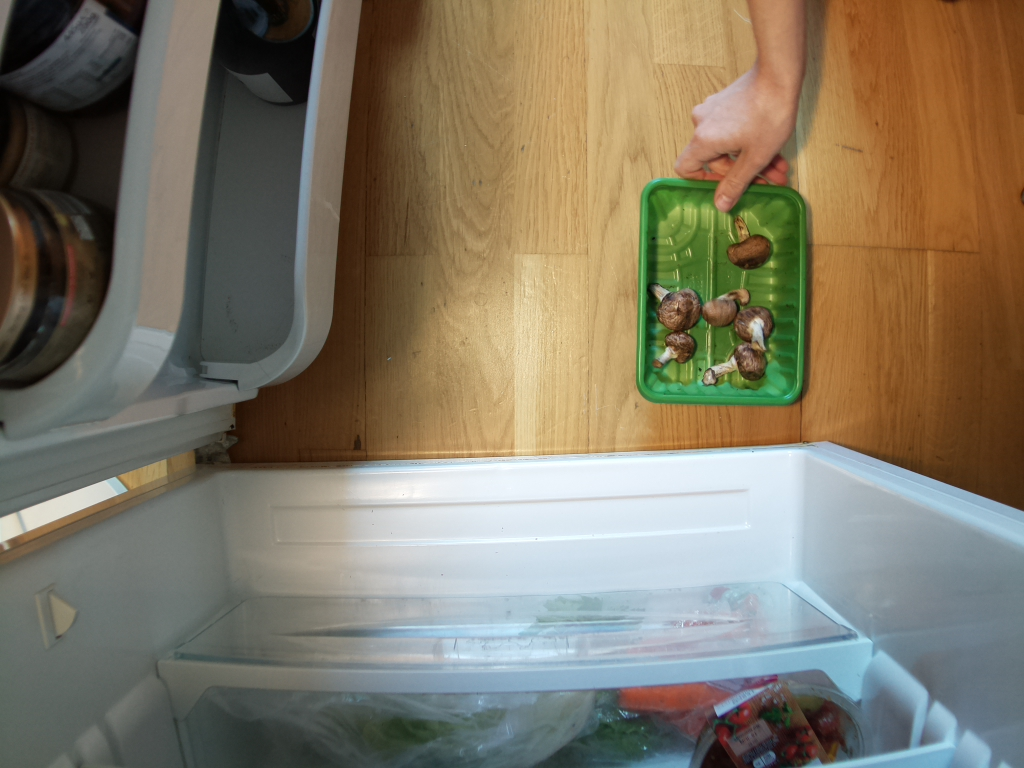mushrooms-bad: (629, 176, 815, 407)
